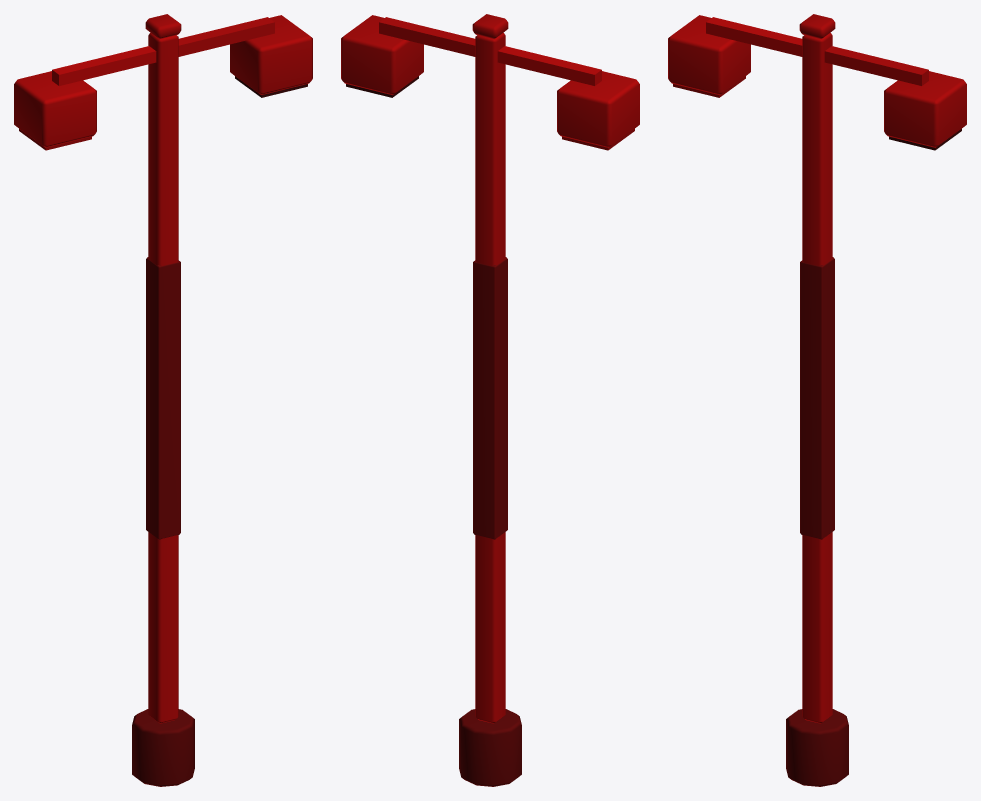
The model's file is lamp_b.glb.
3 views of the same model, side by side, from view 1: azimuth 30°, elevation 25°; view 2: azimuth 150°, elevation 25°; view 3: azimuth 330°, elevation 25° (orthographic).
Visible parts, largest first — view 1: lamp_b; view 2: lamp_b; view 3: lamp_b.
Boxes of the visible parts, box(x1,y1,x2,y2) form: lamp_b: box(14, 14, 312, 786); lamp_b: box(341, 14, 639, 786); lamp_b: box(668, 14, 966, 786).
Size of the model in its own units: 1.76 by 4.68 by 0.36.
